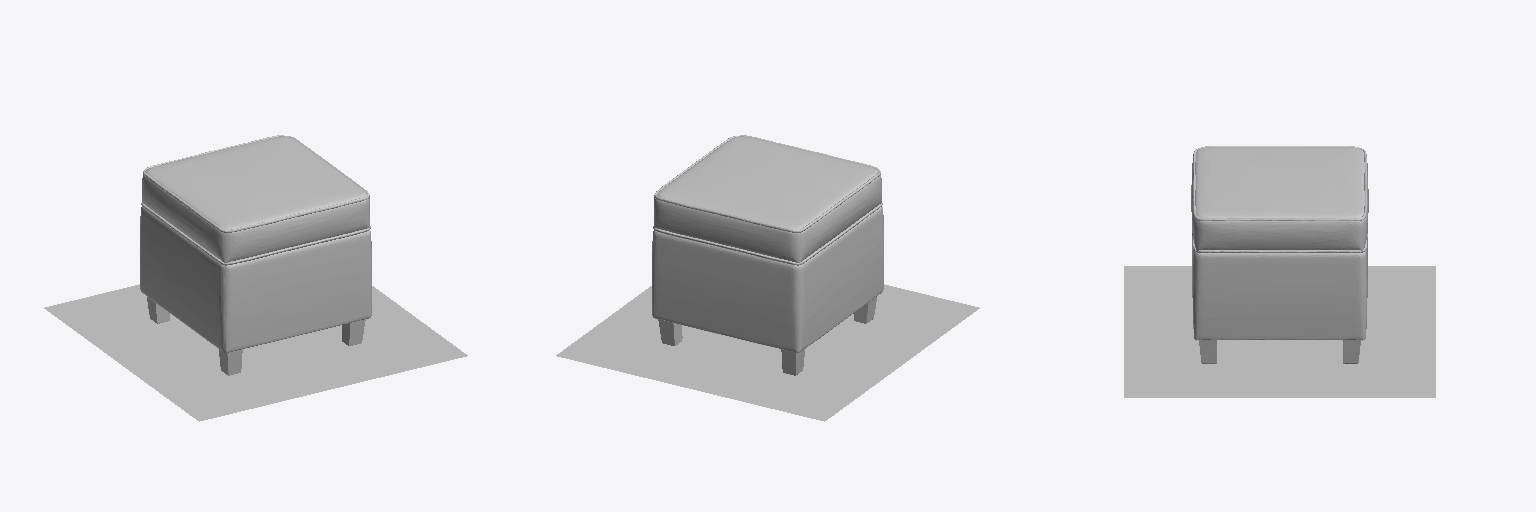
File: TRPT1526.obj
3 renders of one model, left to right at view 1: azimuth 30°, elevation 25°; view 2: azimuth 150°, elevation 25°; view 3: azimuth 270°, elevation 25°, orthographic.
Visible parts, largest first — view 1: not_clear_obj_0_v6, shadow_plane_v6, not_clear_obj_1_v6; view 2: not_clear_obj_0_v6, shadow_plane_v6, not_clear_obj_1_v6; view 3: not_clear_obj_0_v6, shadow_plane_v6, not_clear_obj_1_v6.
Boxes of the visible parts, box(x1,y1,x2,y2) form: not_clear_obj_0_v6: box(140, 135, 371, 352); shadow_plane_v6: box(44, 284, 467, 421); not_clear_obj_1_v6: box(147, 297, 365, 375); not_clear_obj_0_v6: box(652, 135, 883, 352); shadow_plane_v6: box(556, 284, 979, 421); not_clear_obj_1_v6: box(658, 297, 876, 375); not_clear_obj_0_v6: box(1191, 146, 1368, 340); shadow_plane_v6: box(1124, 266, 1435, 397); not_clear_obj_1_v6: box(1199, 340, 1360, 363).
Bounding box in the file's own units: 77.84 × 41.91 × 77.84.